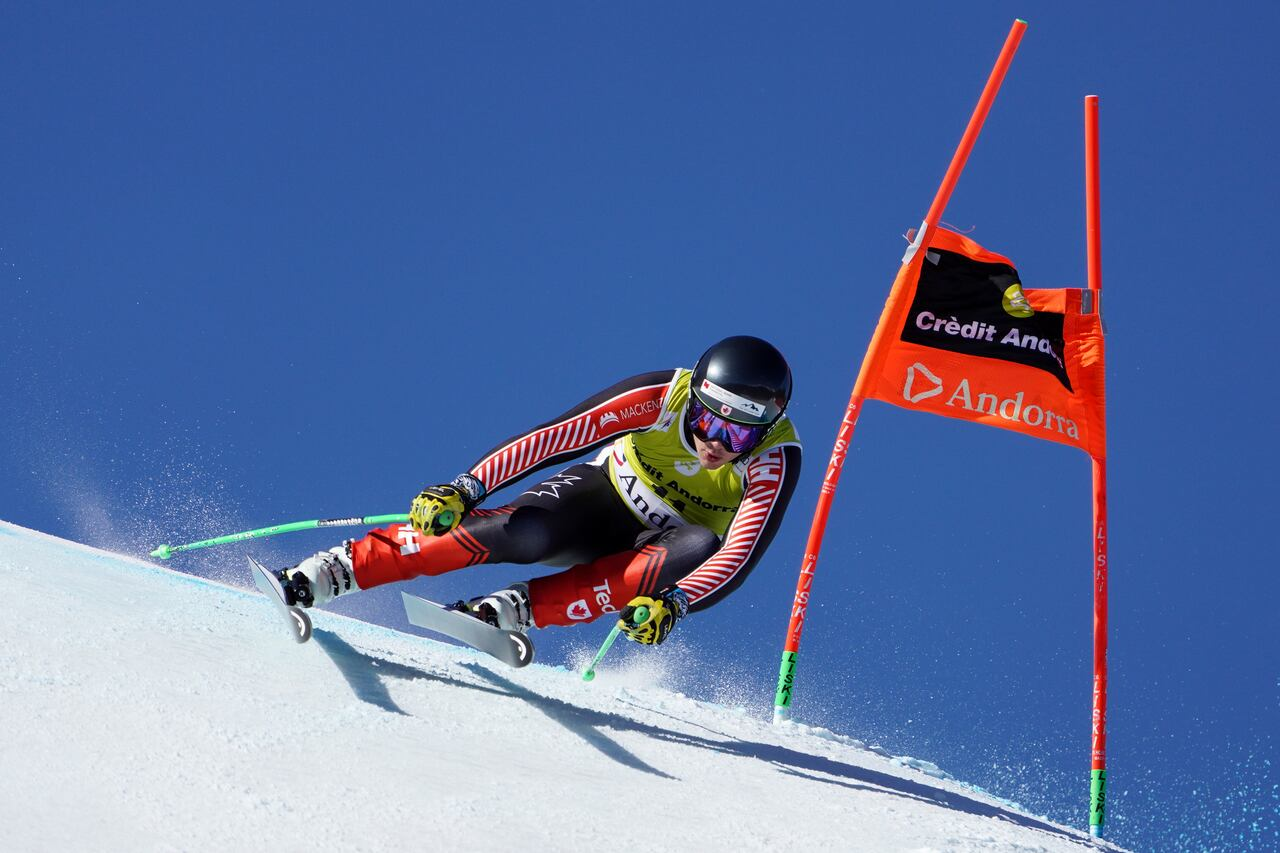skier: (182, 321, 837, 709)
